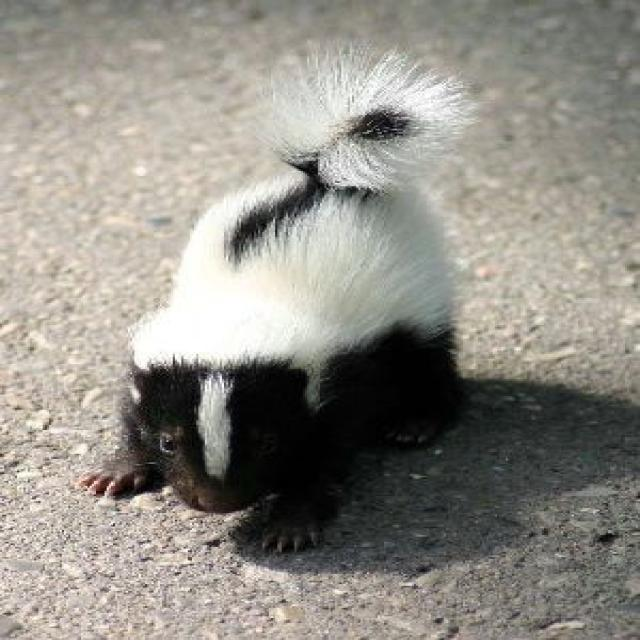Skunk: (53, 54, 494, 563)
